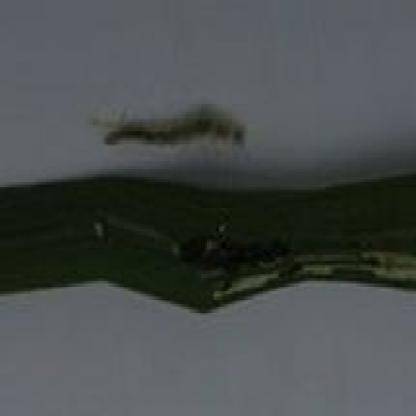leaf-folder: (90, 93, 246, 168)
